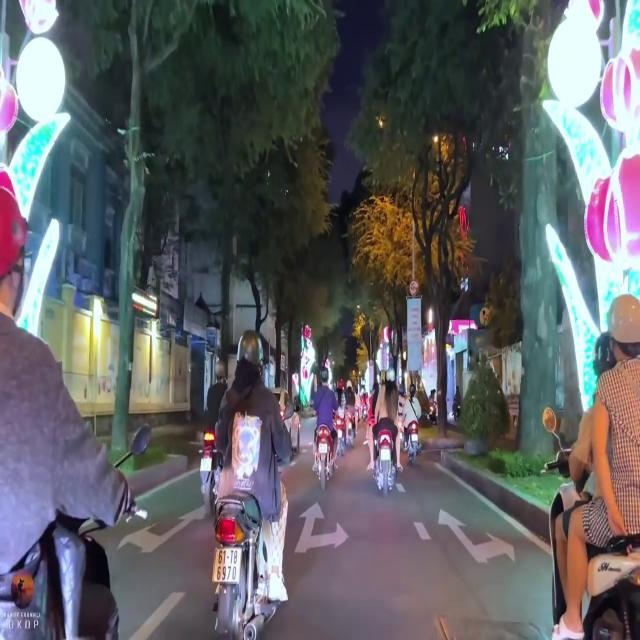bien_trang: (213, 548, 244, 582)
